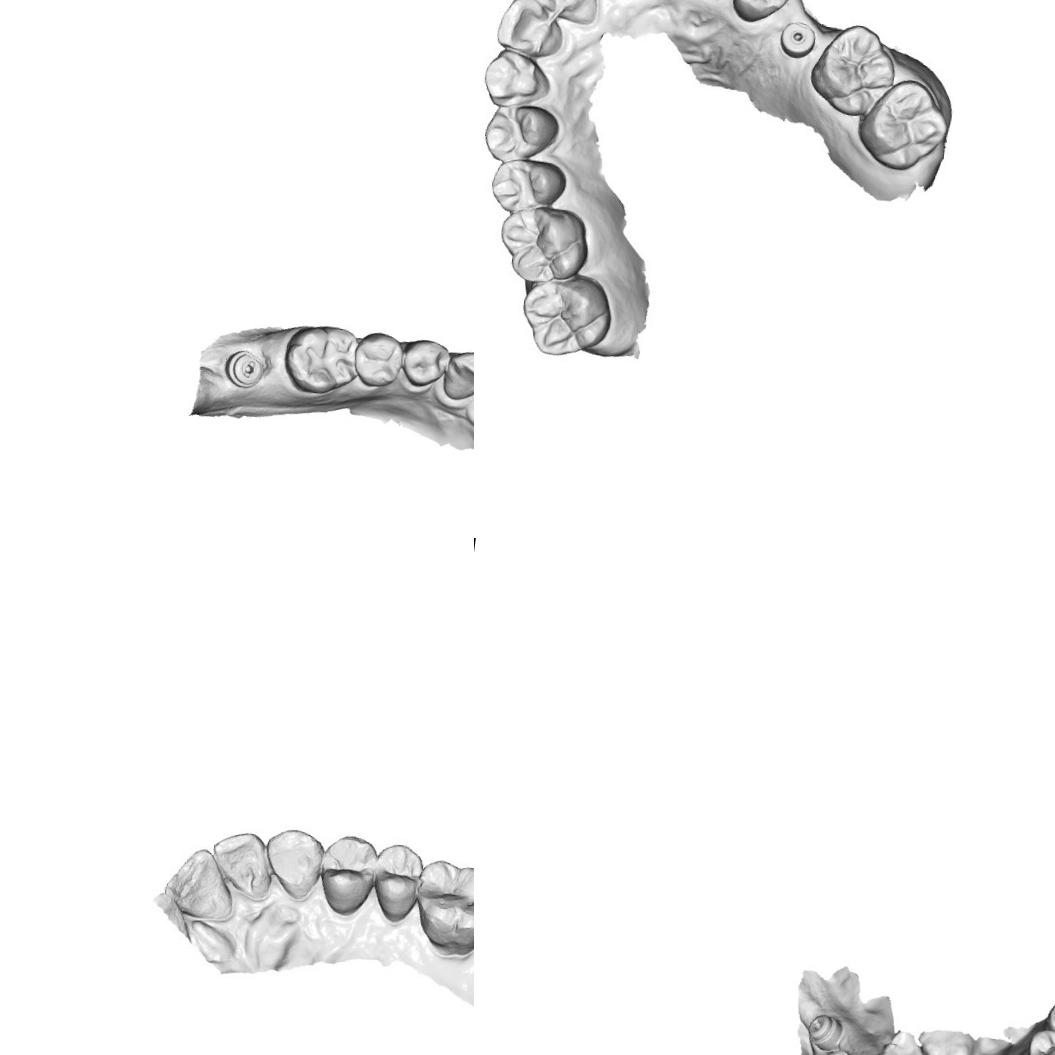canine: (481, 47, 559, 114), (263, 823, 327, 902), (440, 346, 474, 406)
implant: (776, 14, 821, 62)
implant_minus: (222, 344, 268, 392), (802, 1010, 846, 1050), (823, 1047, 859, 1055)
incisor: (160, 844, 242, 929), (208, 830, 279, 900), (493, 0, 569, 58), (521, 0, 604, 26)
molar: (856, 74, 950, 176), (806, 19, 898, 122), (516, 269, 614, 364), (493, 201, 593, 287), (280, 317, 364, 400), (409, 851, 474, 958)
premolar: (477, 99, 562, 167), (483, 154, 566, 218), (318, 832, 381, 916), (370, 842, 425, 928), (348, 327, 408, 392), (400, 333, 454, 391), (729, 0, 803, 27), (1023, 1026, 1055, 1055)
